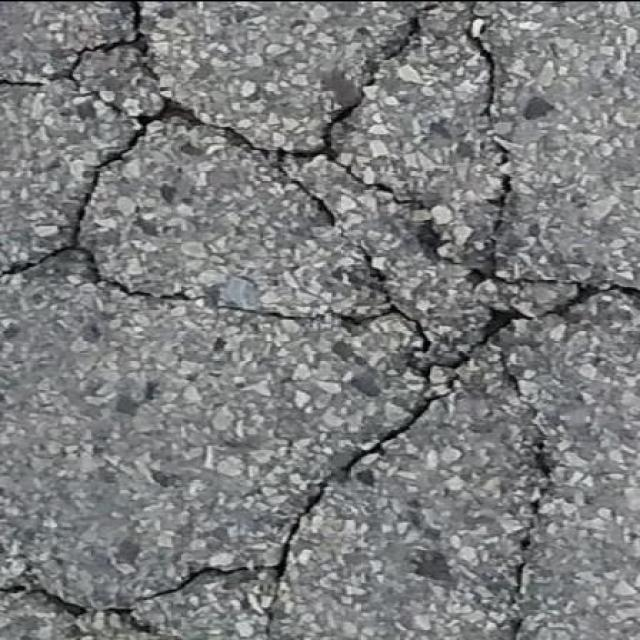Crack: (1, 0, 477, 370), (412, 21, 523, 285), (301, 380, 454, 518), (496, 342, 556, 640), (122, 287, 378, 325), (0, 538, 86, 612), (135, 566, 246, 599), (259, 536, 297, 610), (555, 284, 639, 311), (476, 298, 529, 338), (111, 606, 172, 640), (352, 179, 422, 208), (474, 0, 486, 18), (76, 628, 87, 640)
